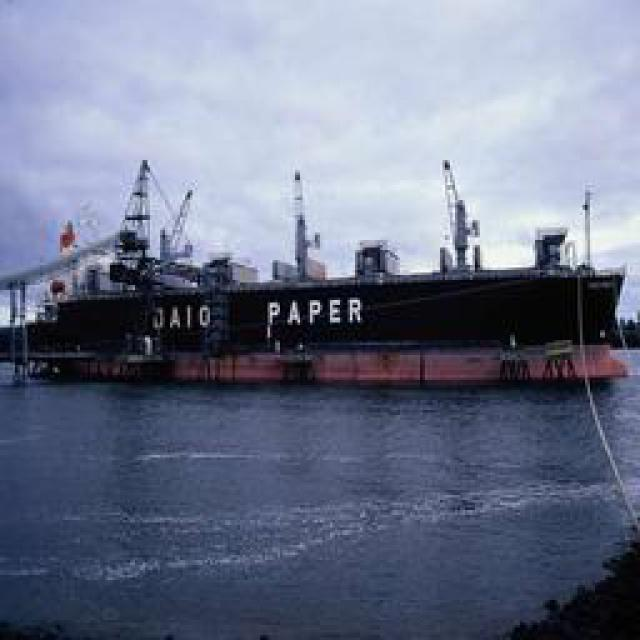Ship: (24, 159, 634, 374)
